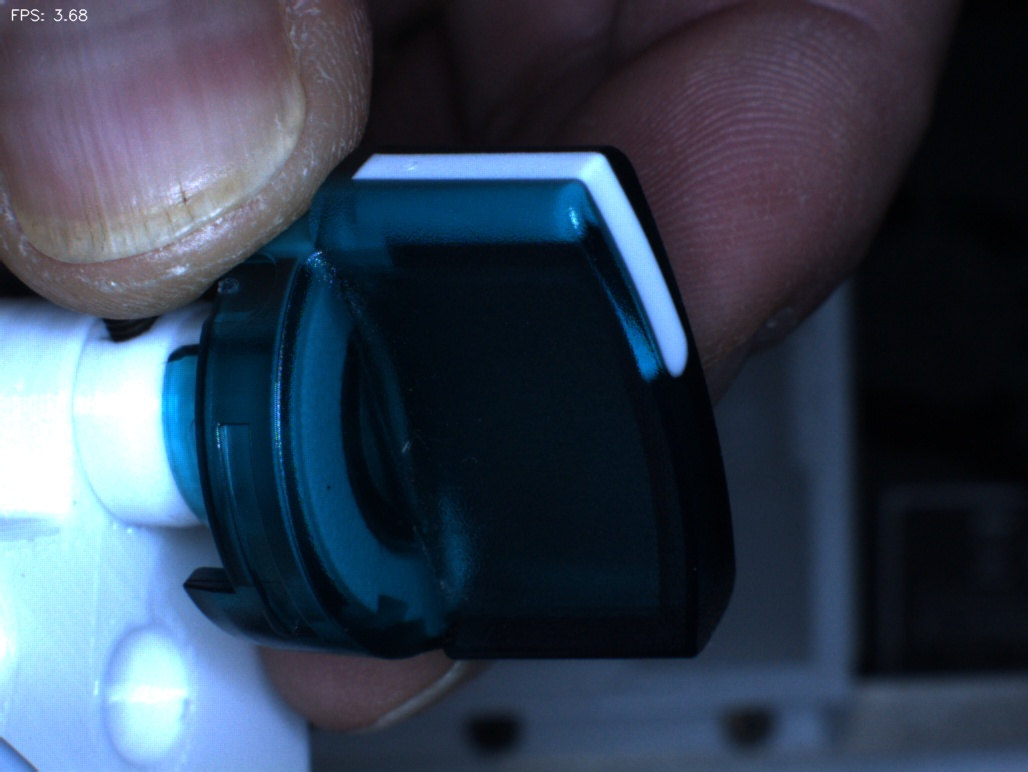PointNoir: (296, 454, 358, 518)
